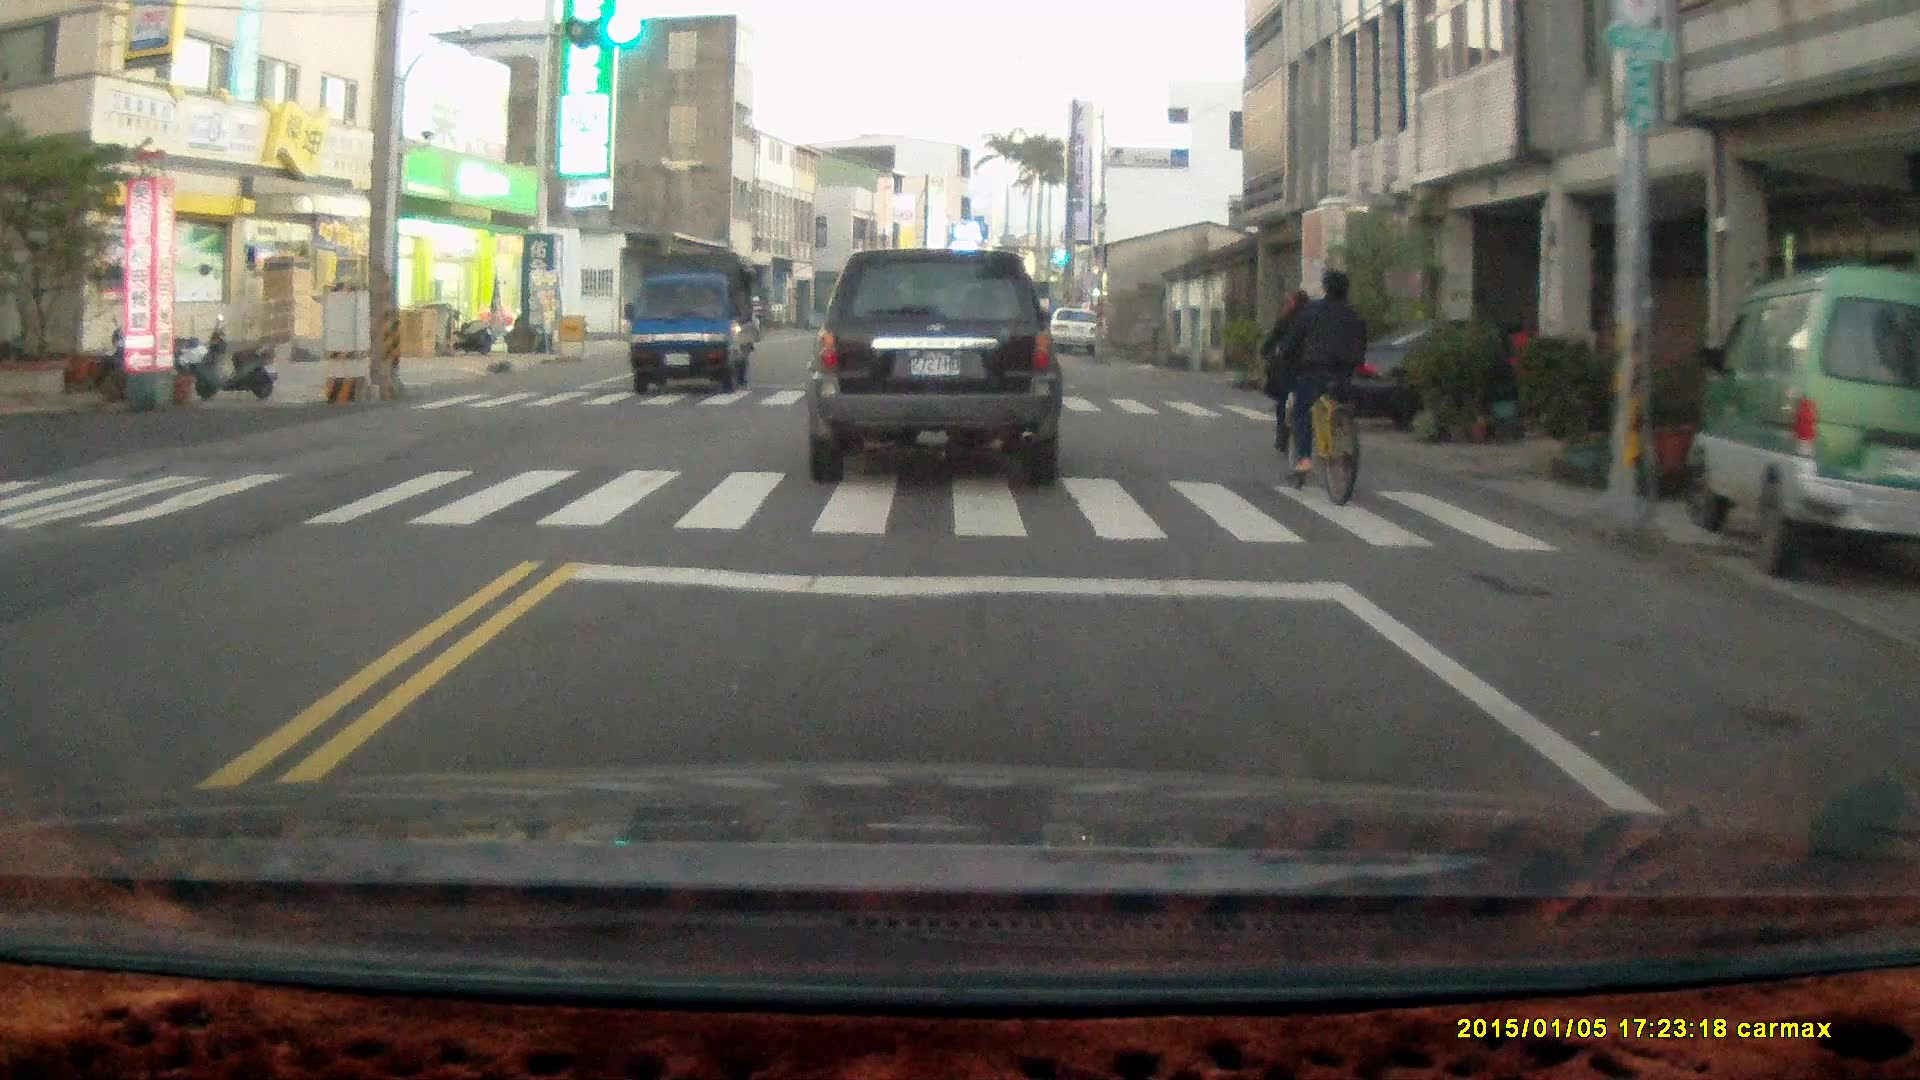rider: (1277, 260, 1373, 498), (1265, 273, 1329, 448), (742, 292, 765, 343)
vehicle: (1696, 276, 1919, 588), (803, 244, 1064, 482), (1350, 316, 1664, 443), (627, 248, 761, 397)
